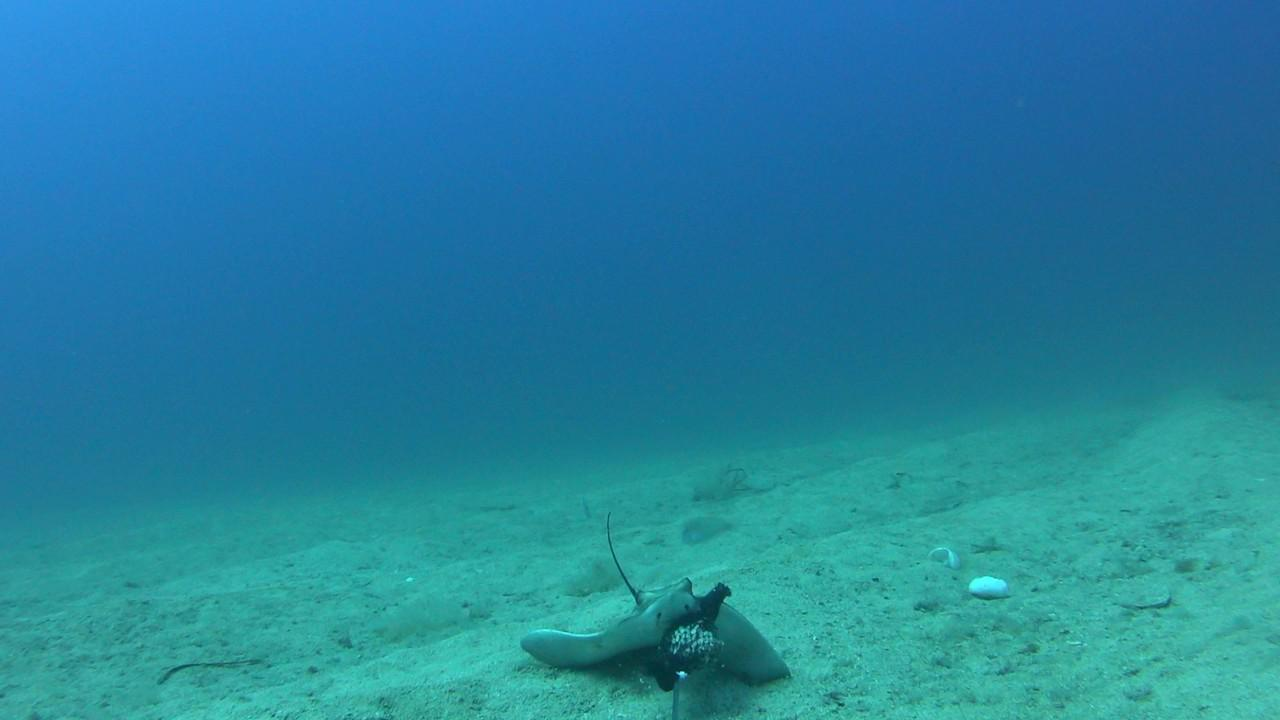myliobatis: (510, 505, 807, 688)
raor: (679, 507, 749, 552)
